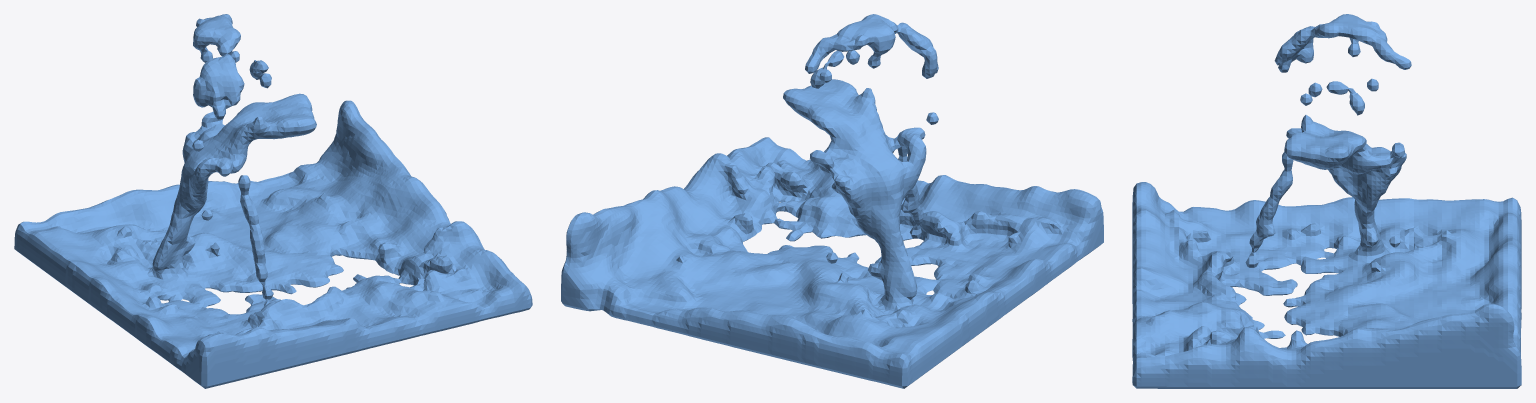
Rendered from water_0097.glb.
3 renders of one model, left to right at view 1: azimuth 30°, elevation 25°; view 2: azimuth 150°, elevation 25°; view 3: azimuth 270°, elevation 25°, orthographic. The views are drawn at different scales.
Parts seen in each view (by area): view 1: Water_0097; view 2: Water_0097; view 3: Water_0097.
Boxes of the visible parts, bbox=[...] form: Water_0097: bbox=[14, 14, 532, 388]; Water_0097: bbox=[561, 14, 1103, 388]; Water_0097: bbox=[1132, 14, 1521, 388].
Size of the model in its own units: 4.83 by 3.62 by 4.83.
